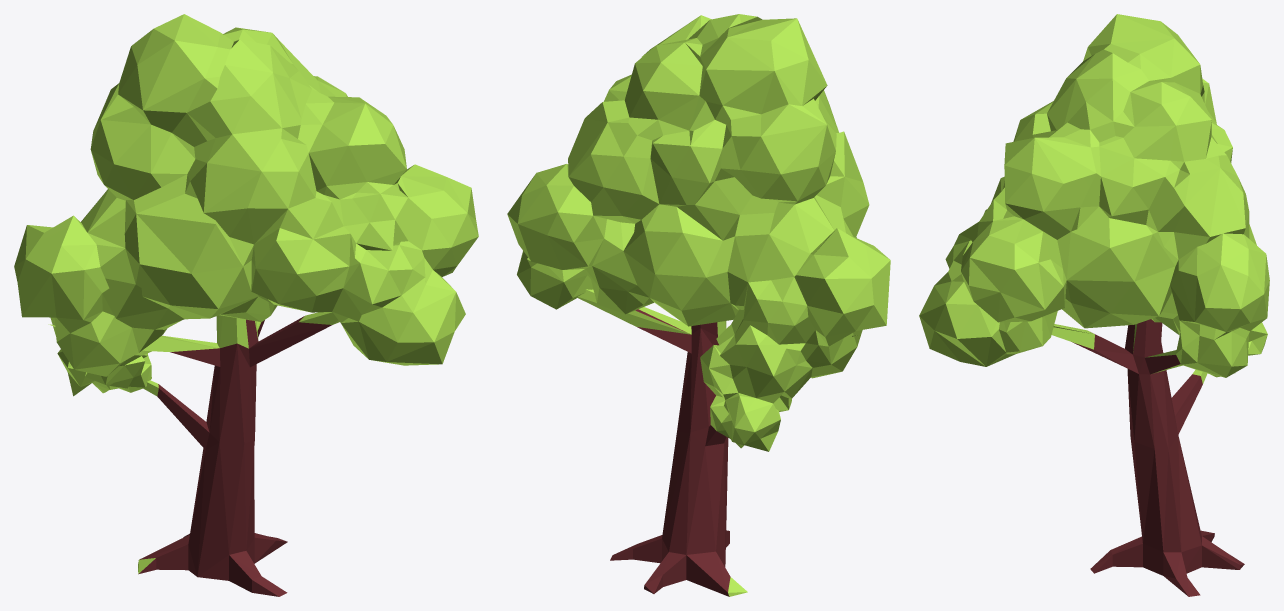
The picture shows the model from 3 angles, left to right: view 1: azimuth 30°, elevation 25°; view 2: azimuth 150°, elevation 25°; view 3: azimuth 270°, elevation 25°; orthographic projection. The views are drawn at different scales.
Parts seen in each view (by area): view 1: _6_tree; view 2: _6_tree; view 3: _6_tree.
Boxes of the visible parts, x1=… form: _6_tree: x1=14, y1=14, x2=478, y2=596; _6_tree: x1=507, y1=14, x2=890, y2=596; _6_tree: x1=919, y1=14, x2=1269, y2=596.
Bounding box in the file's own units: 1.74 × 2.6 × 1.6.
